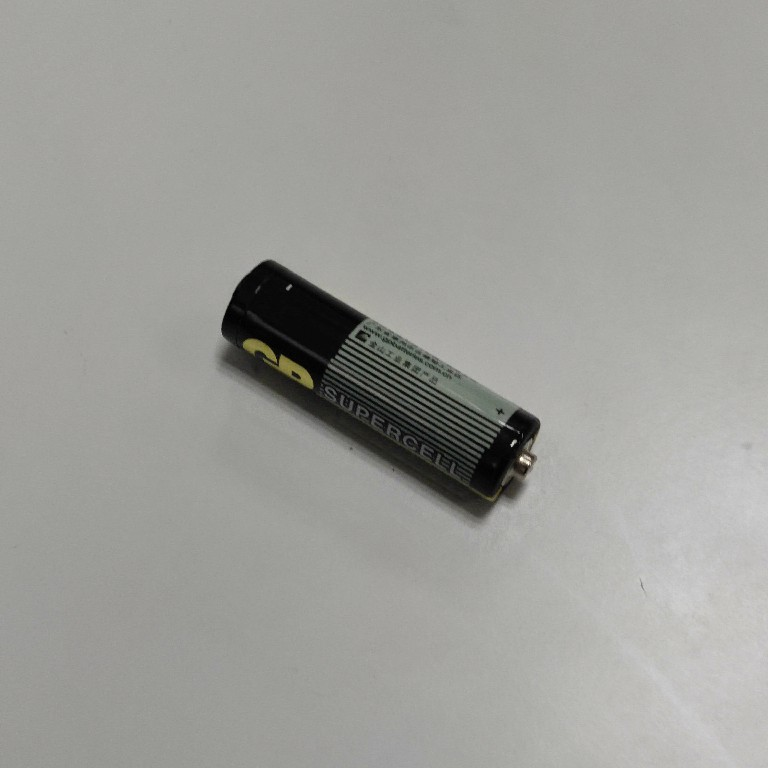charge: (216, 256, 546, 512)
